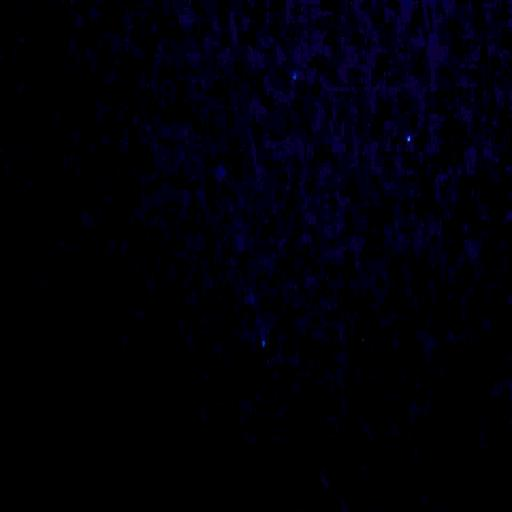object-detection-project: (261, 339, 266, 347), (293, 72, 297, 79), (407, 136, 410, 141)
